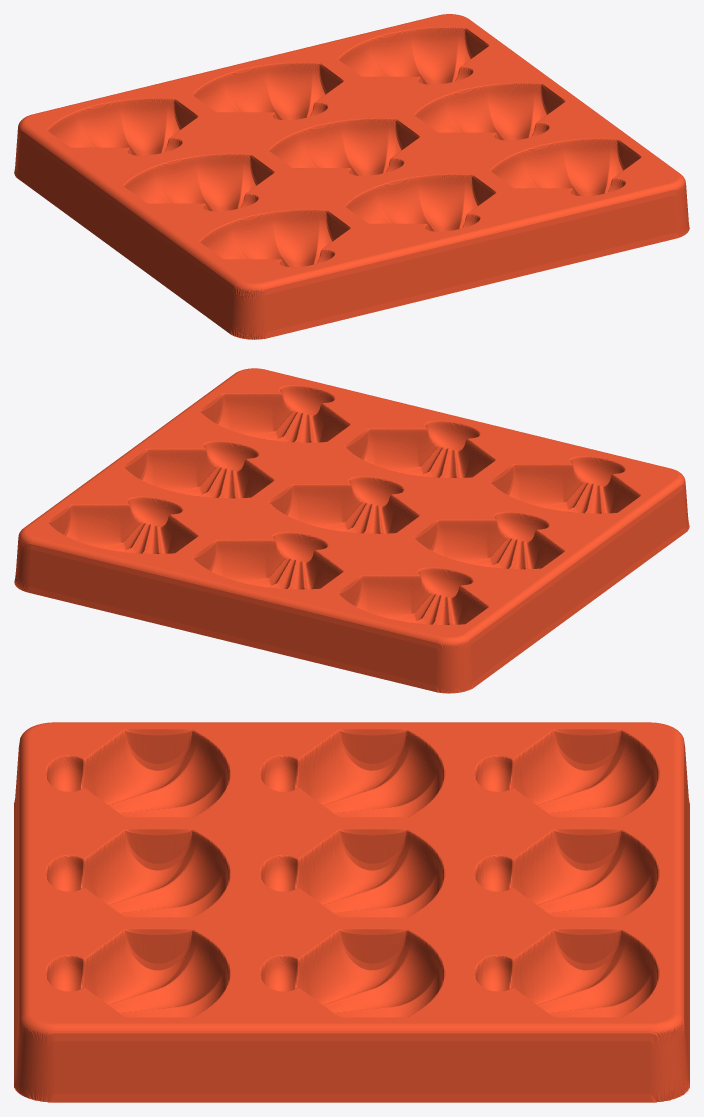
File: mold.glb
3 views of the same model, one above another, from view 1: azimuth 30°, elevation 25°; view 2: azimuth 150°, elevation 25°; view 3: azimuth 270°, elevation 25° (orthographic). The views are drawn at different scales.
Visible parts, largest first — view 1: geometry_0; view 2: geometry_0; view 3: geometry_0.
Part boxes in pixels (<box>): geometry_0: <box>14,14,689,339</box>; geometry_0: <box>14,368,689,693</box>; geometry_0: <box>14,722,689,1102</box>.
Bounding box in the file's own units: 0.1654 × 0.0178 × 0.1507.
